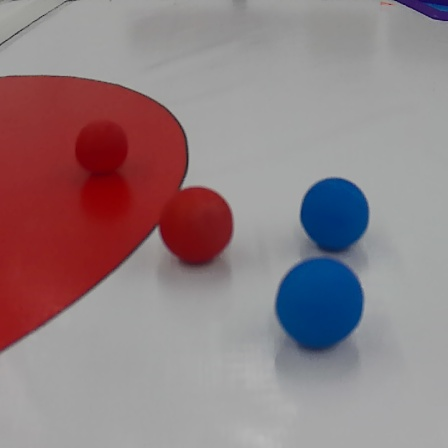blue: (276, 253, 366, 352), (301, 172, 369, 255)
blue_aim: (382, 0, 447, 23)
red: (156, 180, 233, 264), (71, 116, 134, 173)
red_base: (0, 68, 190, 357)
